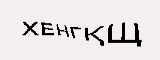Қ: (84, 25, 106, 47)
